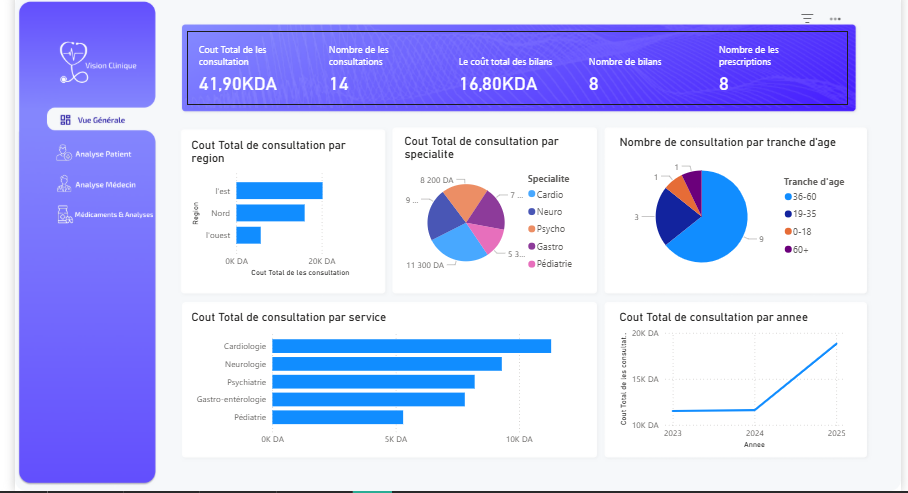

Layout of this report page (visuals, bound fields, positions):
{"tool":"powerbi","page":{"name":"Page 1","canvas":[1280,720],"ordinal":0},"visuals":[{"type":"cardVisual","fields":{"Data":["Dax Calculations.Cout Total de consultation","Dax Calculations.Nombre de consultation","Dax Calculations.Le coût total des bilans","Dax Calculations.Nombre de bilans","Dax Calculations.Nombre de prescriptions"]},"box":[249.4,55.2,954.9,107.3],"z":0},{"type":"clusteredBarChart","title":"Cout Total de consultation par region","fields":{"Y":["Dax Calculations.Cout Total de consultation"],"Category":["dim_patient.Region"]},"box":[250,210,280,205],"z":1000},{"type":"pieChart","title":"Nombre de consultation par tranche d''age","fields":{"Y":["Dax Calculations.Nombre de consultation"],"Category":["dim_patient.Tranche_age"]},"box":[868.3,205,351.7,216.7],"z":2000},{"type":"lineChart","title":"Cout Total de consultation par annee","fields":{"Y":["Dax Calculations.Cout Total de consultation"],"Category":["dim_temps.Annee"]},"box":[868.3,458.3,336.7,205],"z":3000},{"type":"clusteredBarChart","title":"Cout Total de consultation par service","fields":{"Y":["Dax Calculations.Cout Total de consultation"],"Category":["dim_medecin.Service"]},"box":[250,458.3,575,205],"z":4000},{"type":"pieChart","title":"Cout Total de consultation par specialite","fields":{"Y":["Dax Calculations.Cout Total de consultation"],"Category":["dim_medecin.Specialite"]},"box":[558.6,204.3,267.1,218.6],"z":5000}]}

Visuals, with their boxes on the page's 1280x720 design canvas (x1, y1, x2, y2). These are canvas units, not pixel positions in the 908x493 screenshot, which may show the page scaled, cropped or inside an application window:
cardVisual - Dax Calculations.Cout Total de consultation x Dax Calculations.Nombre de consultation: <box>249,55,1204,162</box>
"Cout Total de consultation par region" clusteredBarChart: <box>250,210,530,415</box>
"Nombre de consultation par tranche d''age" pieChart: <box>868,205,1220,422</box>
"Cout Total de consultation par annee" lineChart: <box>868,458,1205,663</box>
"Cout Total de consultation par service" clusteredBarChart: <box>250,458,825,663</box>
"Cout Total de consultation par specialite" pieChart: <box>559,204,826,423</box>
